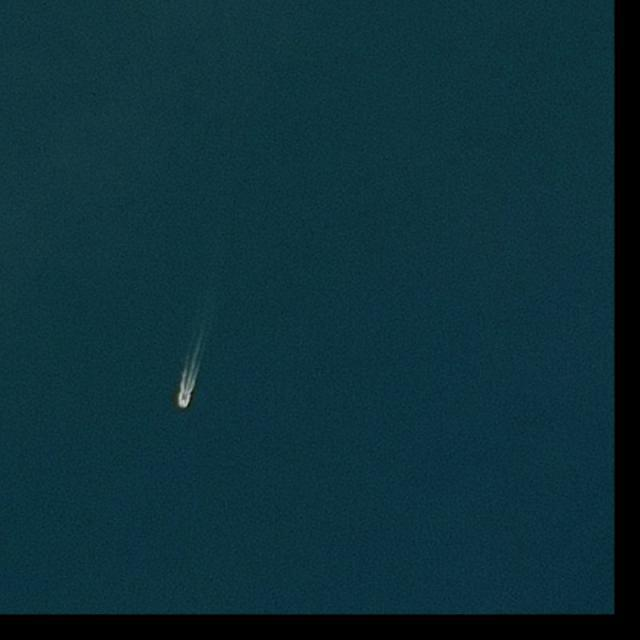ship: (181, 394, 189, 407)
